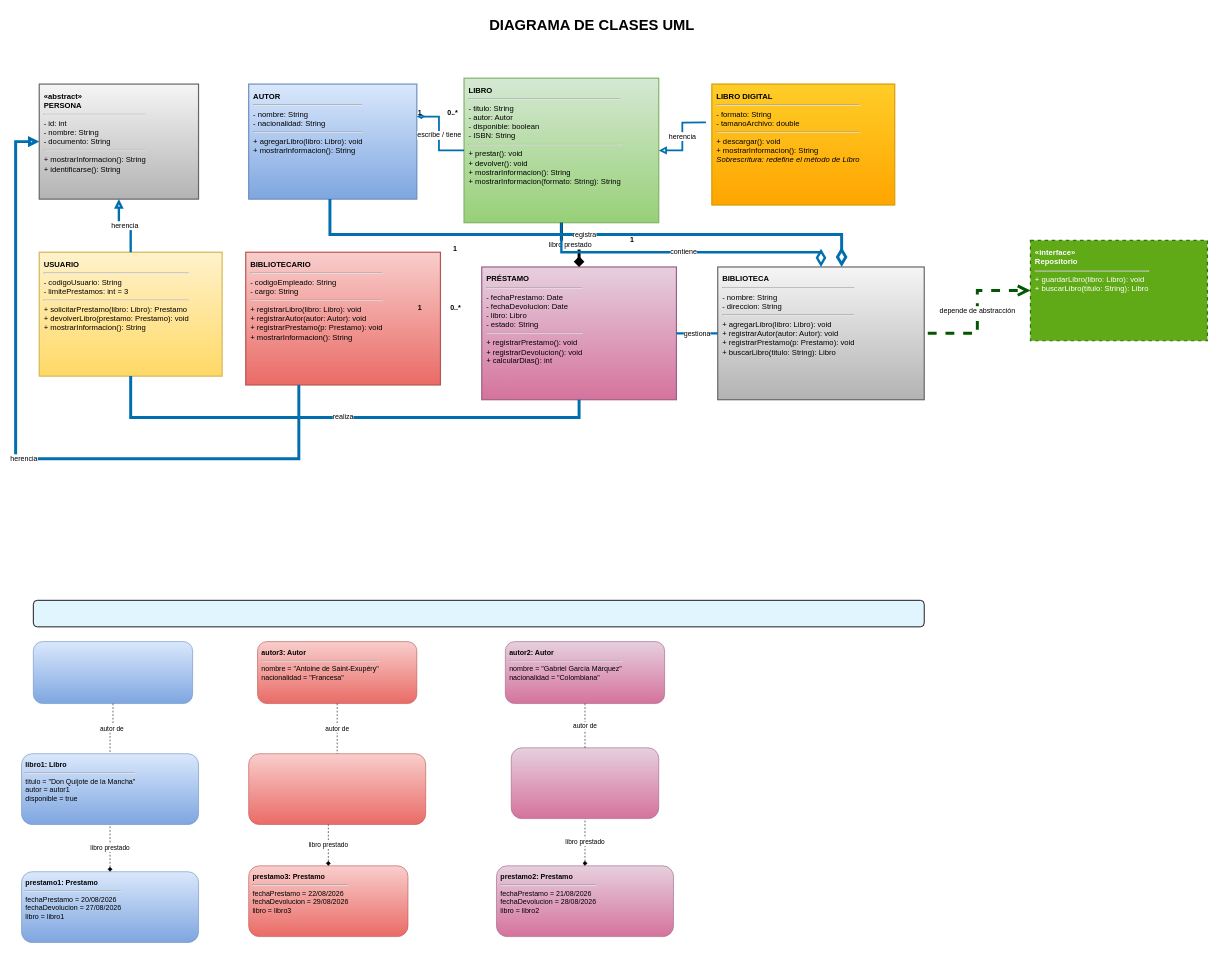
This 1218x953 diagram has some shape labels left out. The shapes that lost their labels are listed below. From the top down, each one's box as (x1, y1, x2, y2) in pixels, then its label:
(33, 600, 924, 627): DATOS CONCRETOS DEL SISTEMA — 3 LIBROS, AUTORES Y PRÉSTAMOS
(33, 641, 193, 704): autor1: Autor nombre = "Miguel de Cervantes" nacionalidad = "Española"
(248, 753, 426, 825): libro3: Libro titulo = "El principito" autor = autor3 disponible = false
(511, 747, 659, 819): libro2: Libro titulo = "Cien años de soledad" autor = autor2 disponible = true
